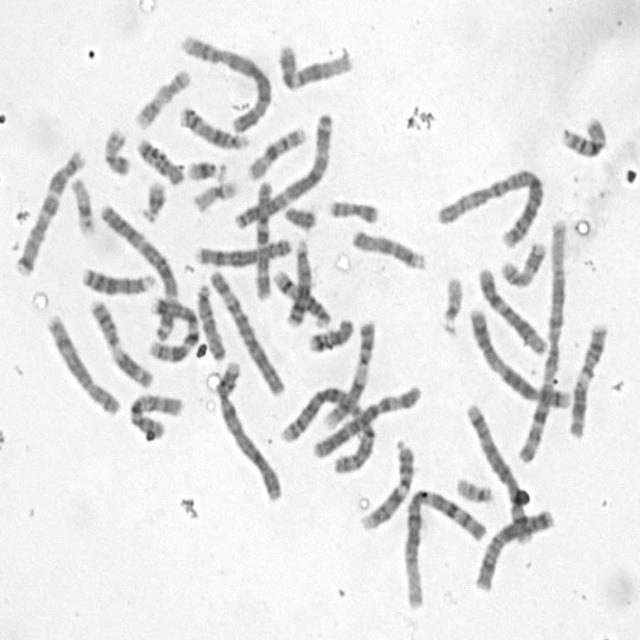A1: (515, 212, 570, 466), (398, 481, 490, 611)
A2: (432, 162, 547, 250), (277, 381, 379, 476)
A3: (228, 106, 337, 231), (95, 198, 181, 346)
B4: (212, 356, 286, 502), (176, 28, 274, 135)
B5: (465, 302, 572, 410), (462, 400, 535, 547)
C10: (125, 388, 187, 441), (252, 175, 276, 301)
C11: (85, 294, 156, 389), (565, 318, 610, 440)
C12: (475, 262, 552, 356), (274, 38, 354, 90)
C6: (205, 264, 288, 396), (308, 379, 425, 460)
C7: (10, 143, 88, 279), (145, 292, 202, 363)
C8: (41, 310, 122, 417), (191, 232, 296, 268)
C9: (319, 316, 378, 431), (357, 438, 417, 531)
D13: (282, 233, 313, 328), (79, 262, 157, 296)
D14: (267, 263, 332, 329), (176, 101, 252, 151)
D15: (348, 224, 429, 272), (193, 279, 229, 362)
E16: (242, 120, 308, 182), (558, 110, 610, 160)
E17: (130, 63, 193, 131), (498, 236, 549, 289)
E18: (132, 132, 186, 186), (305, 312, 356, 354)
F19: (190, 174, 241, 214), (67, 172, 97, 238)
F20: (324, 193, 381, 226), (100, 122, 134, 177)
G21: (137, 175, 168, 223), (184, 154, 228, 184)
G22: (438, 270, 465, 338), (453, 472, 496, 504)
X: (473, 503, 557, 593)
Y: (280, 200, 319, 232)
